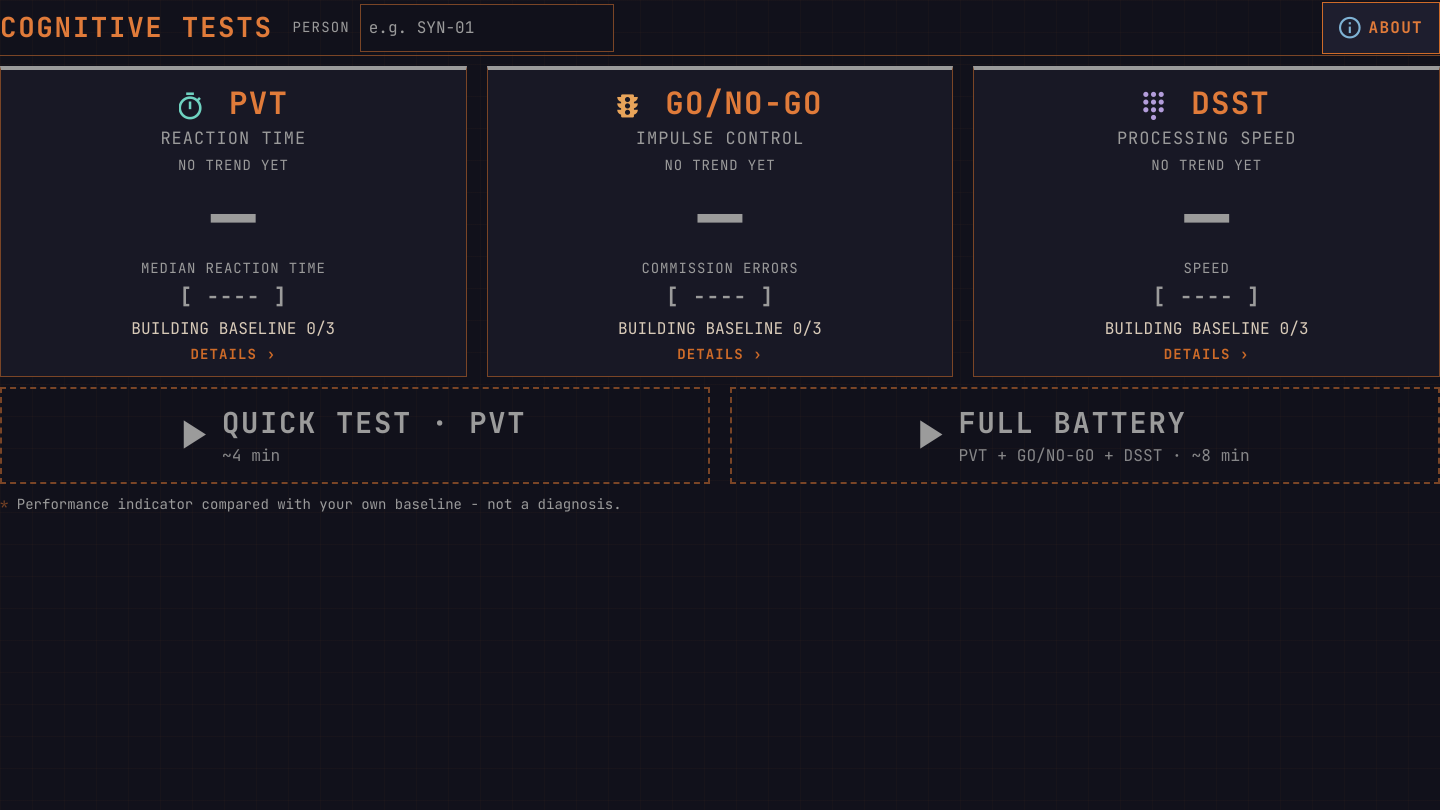
Scenario: CognitivePage self-test link › links to the standalone local-only self-test page in a new tab (inside the ABOUT dialog)
This screenshot has width=1440, height=810.
Click the button "ABOUT". click: (1381, 28)
box: [1322,2,1439,54]
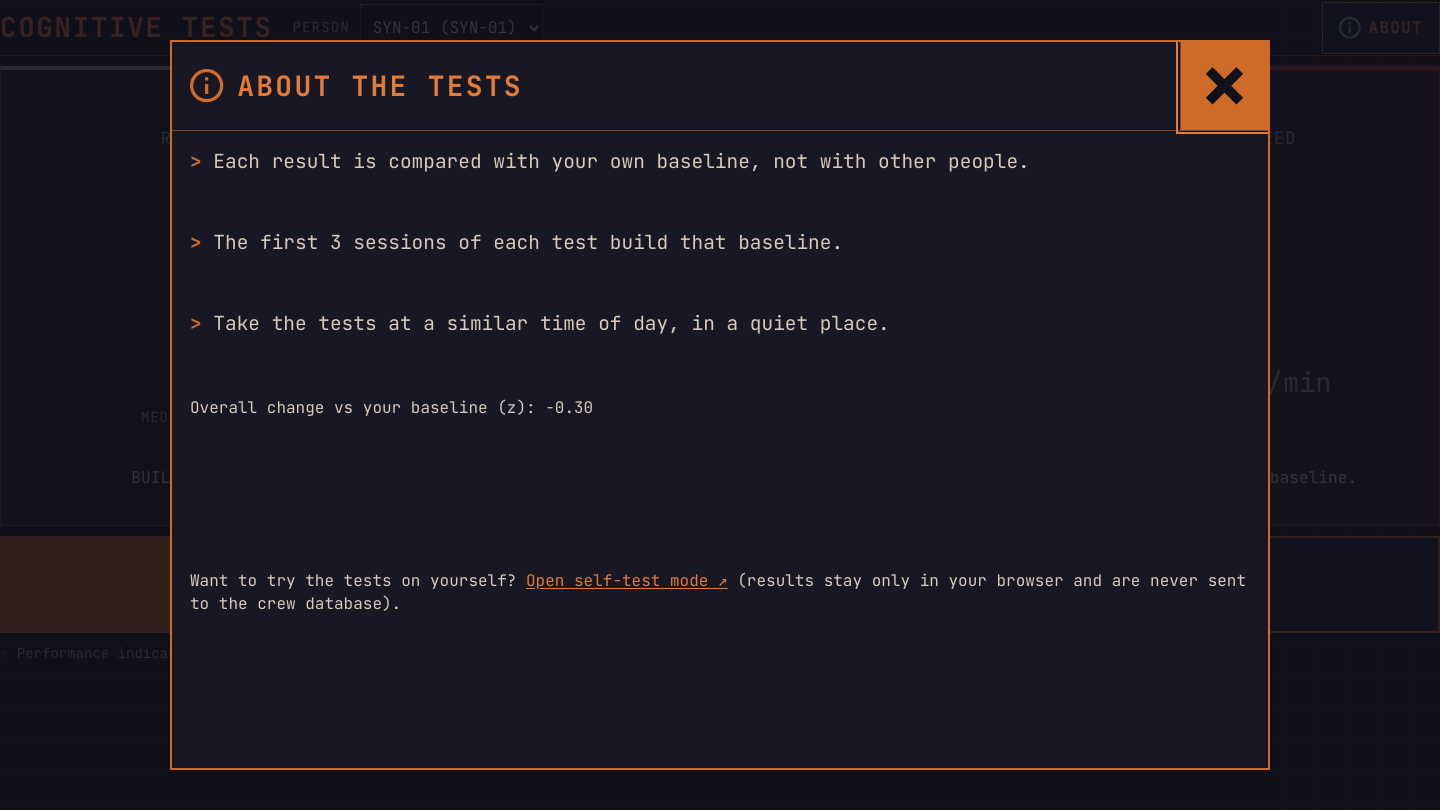
Expected: the dialog shows "own baseline", [213,148,1030,174]
Expected: the element with test id "self-test-link" shows "only in your browser", [190,570,1246,614]
